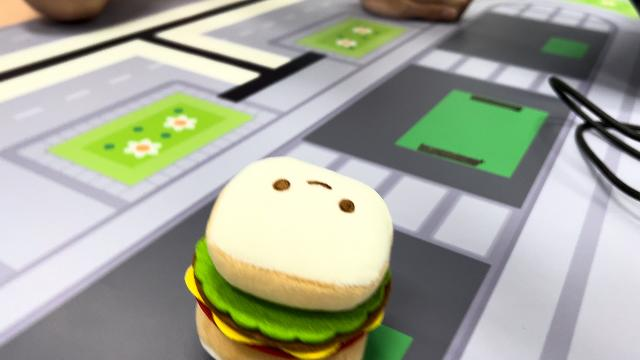sandwich: (183, 153, 397, 357)
